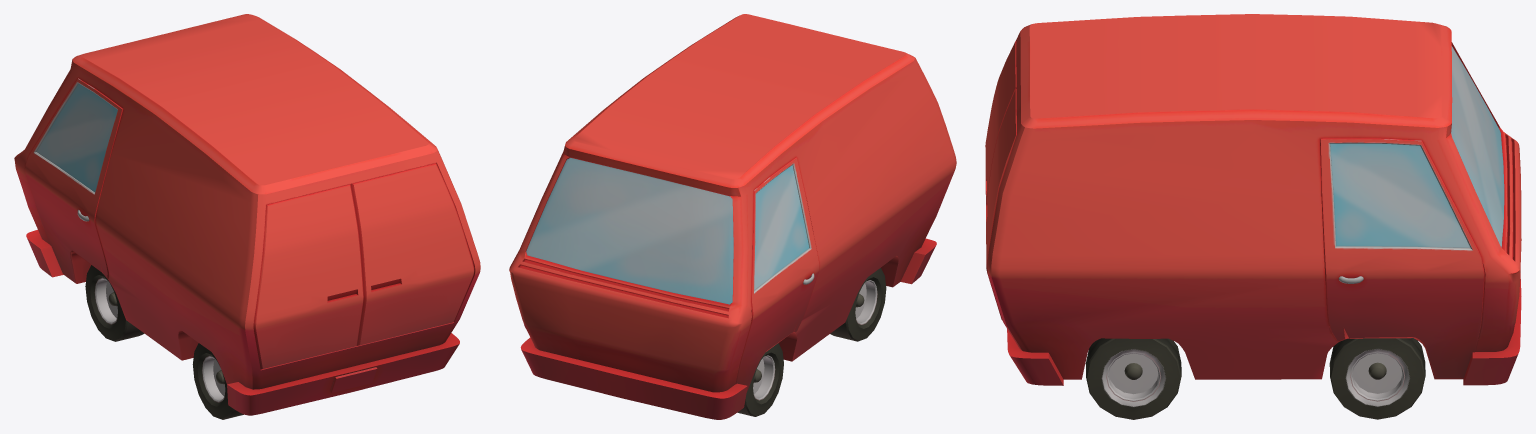
File: Van.fbx
3 renders of one model, left to right at view 1: azimuth 30°, elevation 25°; view 2: azimuth 150°, elevation 25°; view 3: azimuth 270°, elevation 25°, orthographic. The views are drawn at different scales.
Visible parts, largest first — view 1: Van Body, Van Window &Tyre; view 2: Van Body, Van Window &Tyre; view 3: Van Body, Van Window &Tyre.
Part boxes in pixels (<box>): Van Body: <box>14,14,480,415</box>; Van Window &Tyre: <box>34,82,243,419</box>; Van Body: <box>509,14,956,419</box>; Van Window &Tyre: <box>526,157,886,416</box>; Van Body: <box>985,14,1521,385</box>; Van Window &Tyre: <box>1085,46,1504,419</box>.
Bounding box in the file's own units: 4.82 × 5.05 × 7.91.
